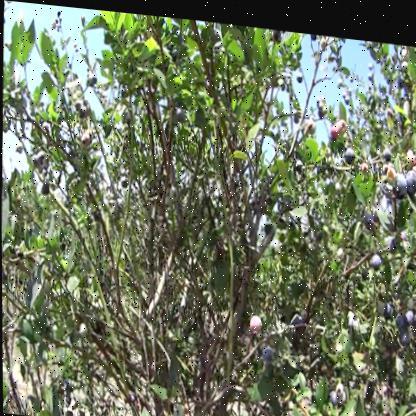intermediate: (331, 111, 346, 133), (250, 308, 262, 332)
mature: (394, 159, 416, 193), (396, 300, 414, 336), (264, 340, 275, 358), (371, 244, 381, 261), (345, 139, 355, 156), (365, 204, 374, 222), (296, 154, 304, 168), (297, 65, 304, 76)
young: (405, 140, 416, 162), (402, 40, 410, 67), (307, 112, 319, 128), (338, 378, 346, 400), (81, 133, 90, 150)
